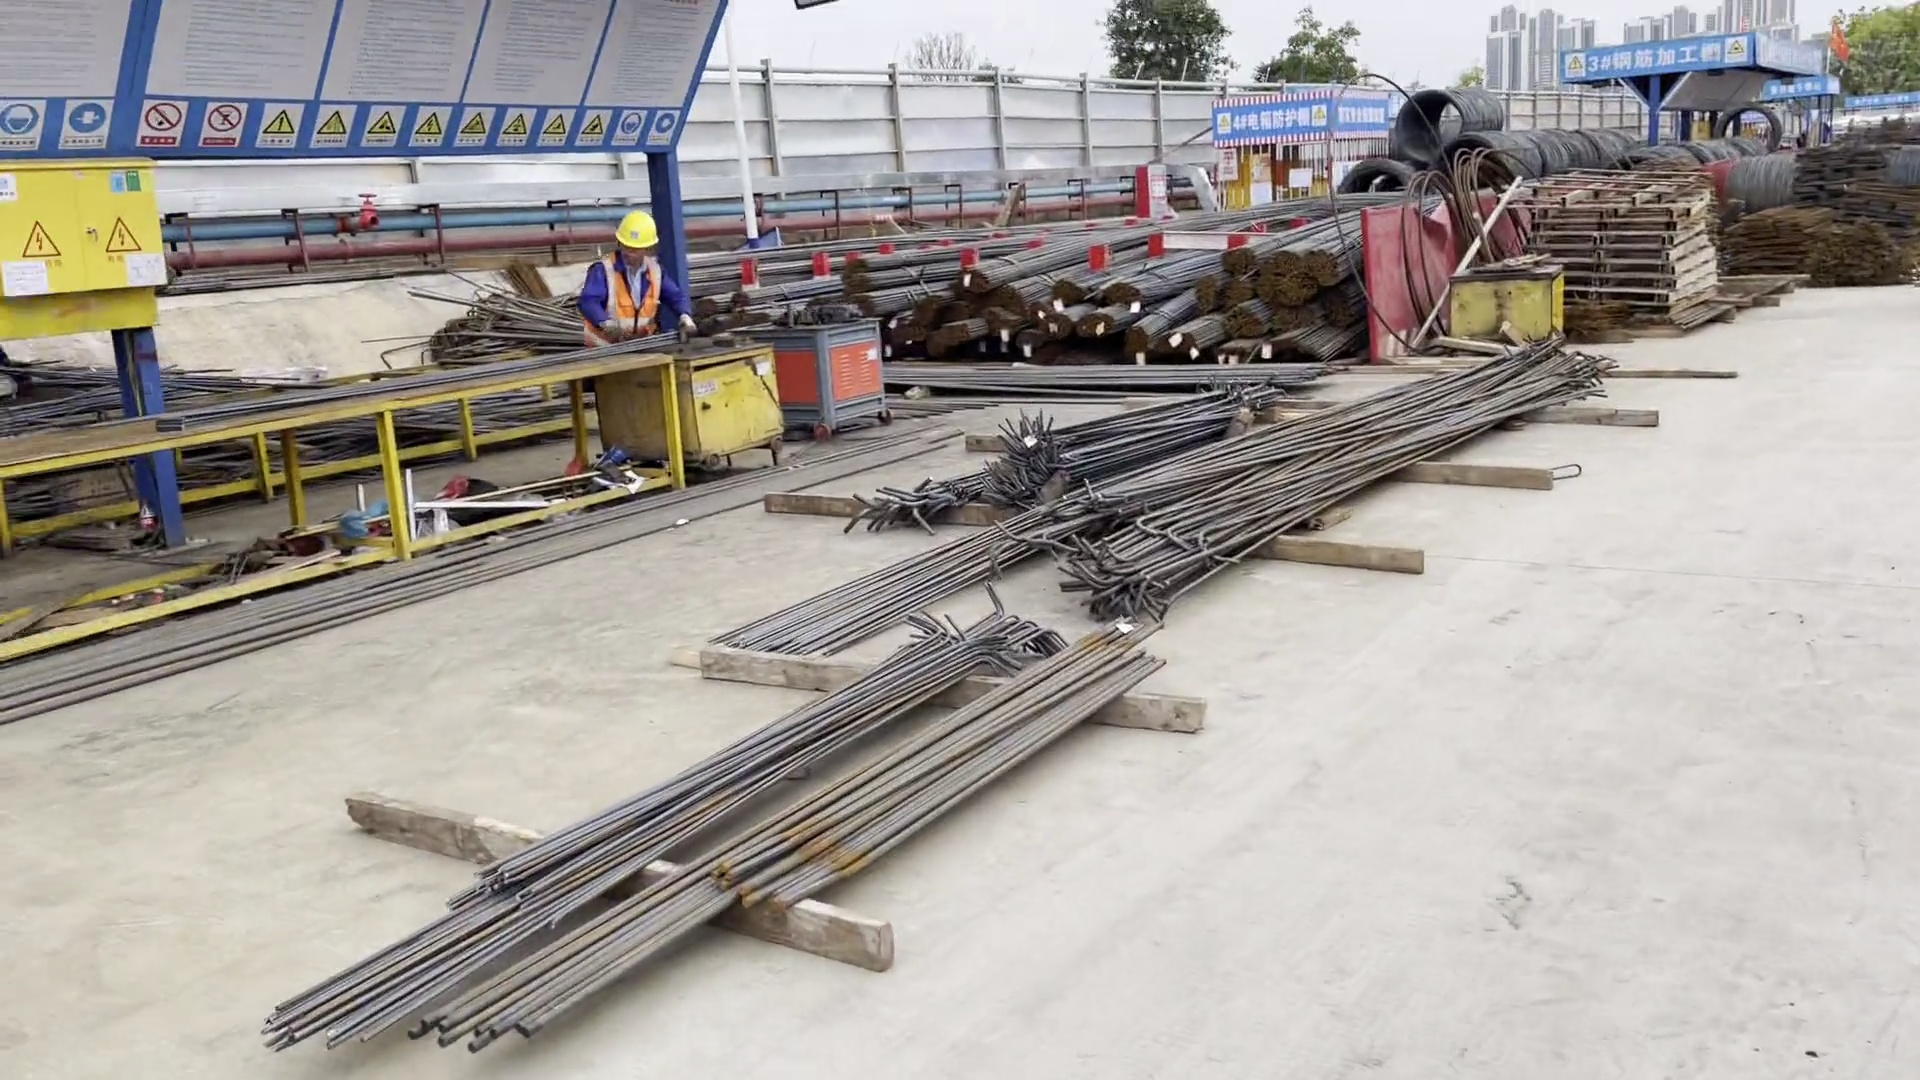ebox: (1, 132, 204, 304)
helmet: (610, 207, 660, 247)
person: (579, 205, 691, 345)
rebar: (262, 616, 970, 1041), (458, 641, 1149, 1060), (1056, 353, 1569, 614), (748, 500, 1103, 672), (958, 199, 1294, 297), (854, 224, 1155, 317), (1108, 227, 1300, 304), (841, 226, 1077, 275), (1220, 203, 1373, 267), (1272, 212, 1388, 275), (837, 252, 1006, 292), (1130, 287, 1196, 348), (1063, 254, 1145, 299), (1153, 313, 1219, 362), (1304, 236, 1366, 284), (1006, 270, 1065, 308), (1222, 301, 1277, 340), (928, 318, 982, 351), (1081, 304, 1136, 338), (1277, 273, 1322, 307), (1032, 310, 1076, 341), (897, 309, 937, 341), (1187, 275, 1225, 310), (978, 300, 1019, 331), (913, 291, 951, 323), (1026, 292, 1059, 326), (1007, 327, 1049, 354)
vest: (591, 243, 664, 343)
